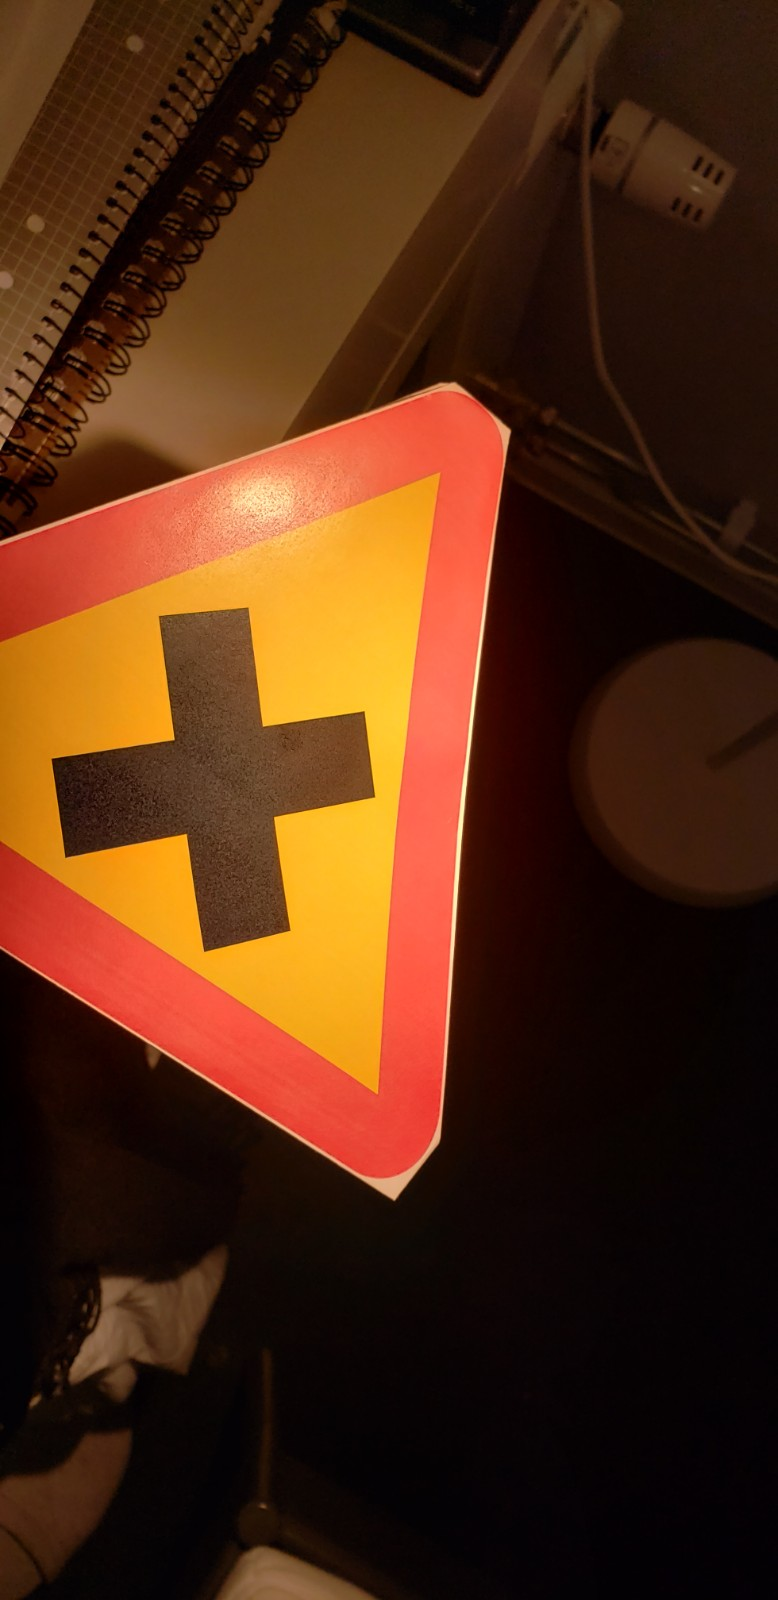junction: (8, 330, 579, 1227)
